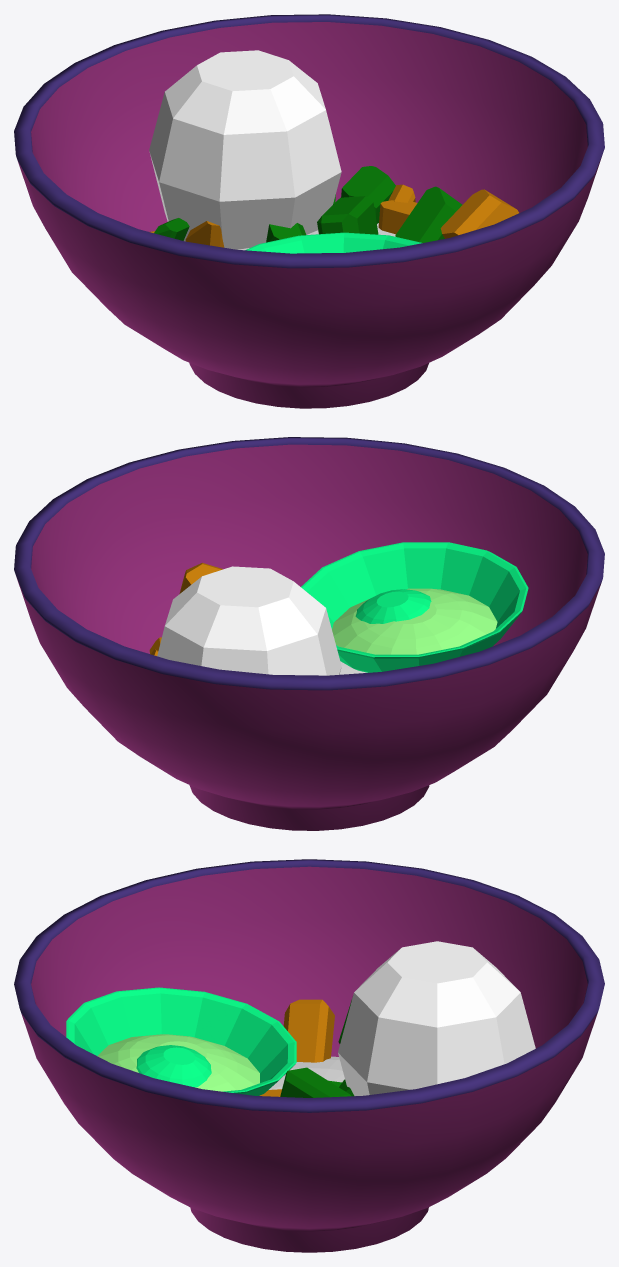
File: unmixed_kaassoufle_model.fbx
3 renders of one model, top to bottom at view 1: azimuth 30°, elevation 25°; view 2: azimuth 150°, elevation 25°; view 3: azimuth 270°, elevation 25°, orthographic.
Visible parts, largest first — view 1: Mixing_Bowl_Ks, Dough, Cheese_Chopped_02, Egg_Cracked_Ks; view 2: Mixing_Bowl_Ks, Egg_Cracked_Ks, Dough, Cheese_Chopped_02; view 3: Mixing_Bowl_Ks, Dough, Egg_Cracked_Ks, Cheese_Chopped_01, Cheese_Chopped_02, Flour_Ks.
Part boxes in pixels (x1=…): Mixing_Bowl_Ks: x1=14, y1=14, x2=604, y2=408; Dough: x1=149, y1=50, x2=341, y2=249; Cheese_Chopped_02: x1=154, y1=166, x2=518, y2=247; Egg_Cracked_Ks: x1=245, y1=232, x2=422, y2=253; Mixing_Bowl_Ks: x1=14, y1=437, x2=604, y2=830; Egg_Cracked_Ks: x1=301, y1=542, x2=528, y2=672; Dough: x1=157, y1=566, x2=341, y2=675; Cheese_Chopped_02: x1=149, y1=562, x2=222, y2=655; Mixing_Bowl_Ks: x1=14, y1=859, x2=604, y2=1252; Dough: x1=338, y1=941, x2=535, y2=1095; Egg_Cracked_Ks: x1=66, y1=987, x2=296, y2=1095; Cheese_Chopped_01: x1=283, y1=999, x2=351, y2=1087; Cheese_Chopped_02: x1=259, y1=1067, x2=354, y2=1097; Flour_Ks: x1=269, y1=1056, x2=344, y2=1089.
Size of the model in its own units: 48.76 by 48.76 by 22.37.
